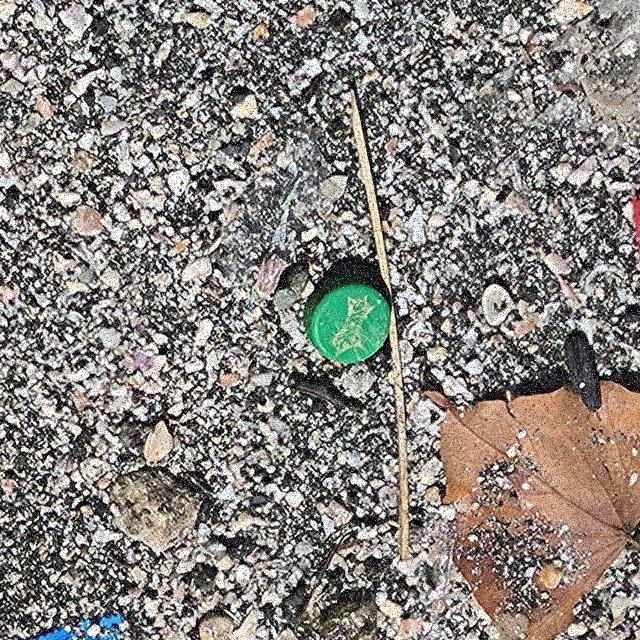plastic_waste: (302, 278, 394, 367)
